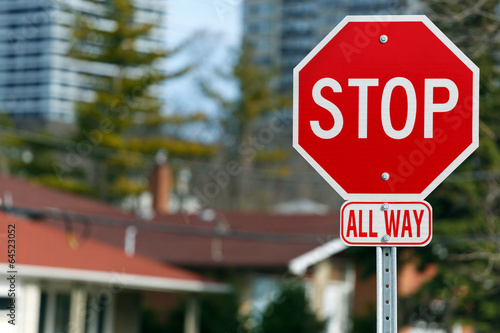StopSign: (292, 14, 479, 201)
